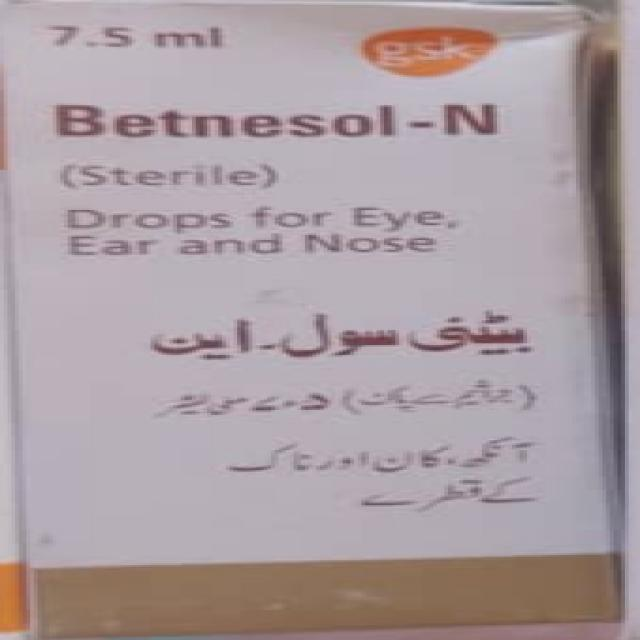drug-name: (41, 98, 524, 144)
